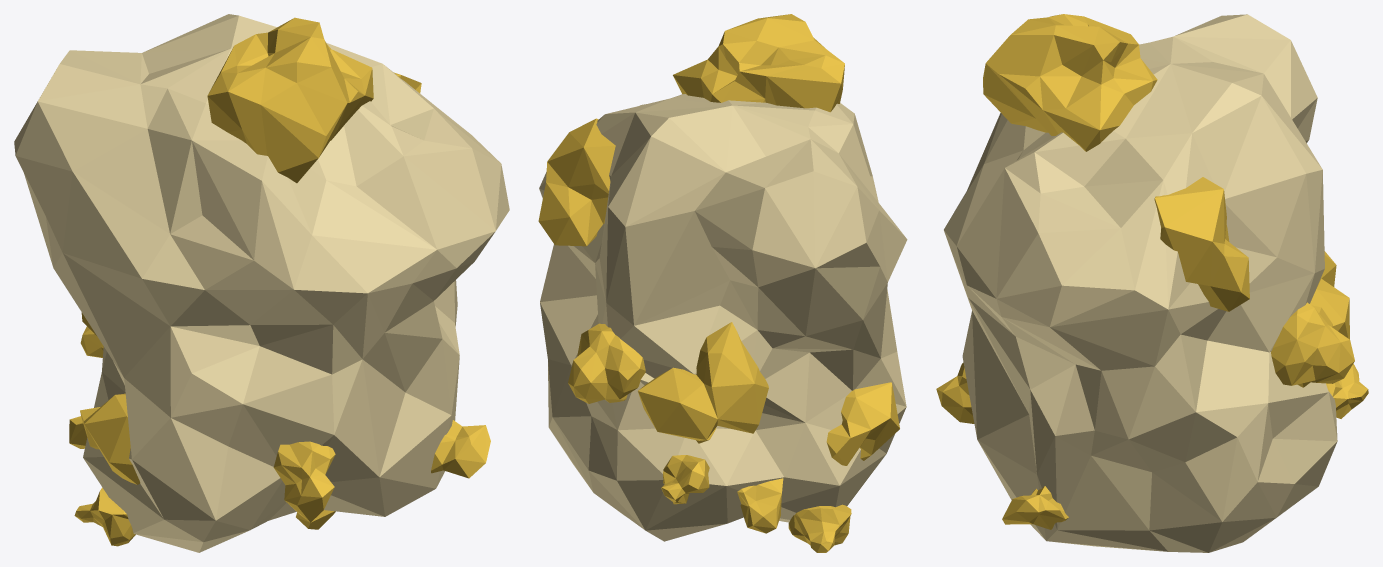
The model's file is MetalOre (30).fbx.
3 renders of one model, left to right at view 1: azimuth 30°, elevation 25°; view 2: azimuth 150°, elevation 25°; view 3: azimuth 270°, elevation 25°, orthographic. The views are drawn at different scales.
Visible parts, largest first — view 1: Asteroid385; view 2: Asteroid385; view 3: Asteroid385.
Part boxes in pixels (x1,y1,x2,y2): Asteroid385: (14, 14, 509, 552); Asteroid385: (538, 14, 907, 552); Asteroid385: (936, 14, 1368, 552).
Bounding box in the file's own units: 264 × 328 × 254.
